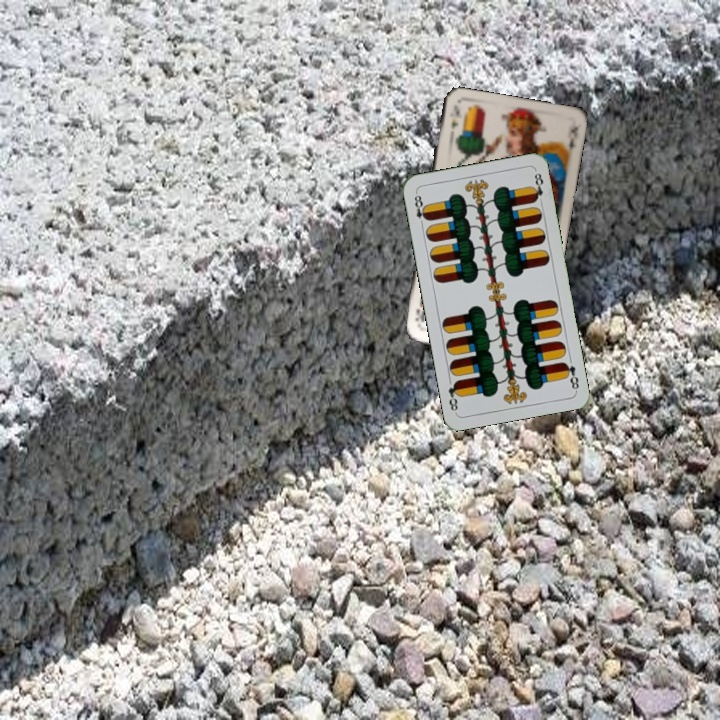E8: (410, 189, 431, 229), (559, 358, 582, 393)
EK: (447, 101, 462, 132)
